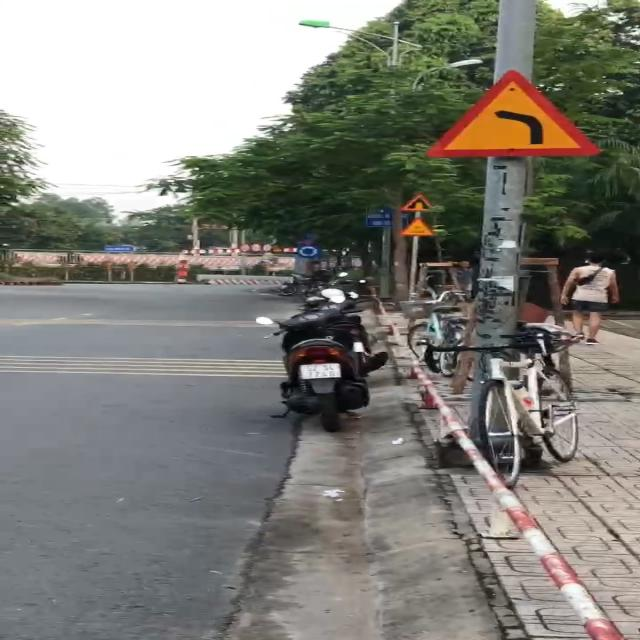Bien bao cho ngoat nguy hiem: (420, 64, 606, 159)
